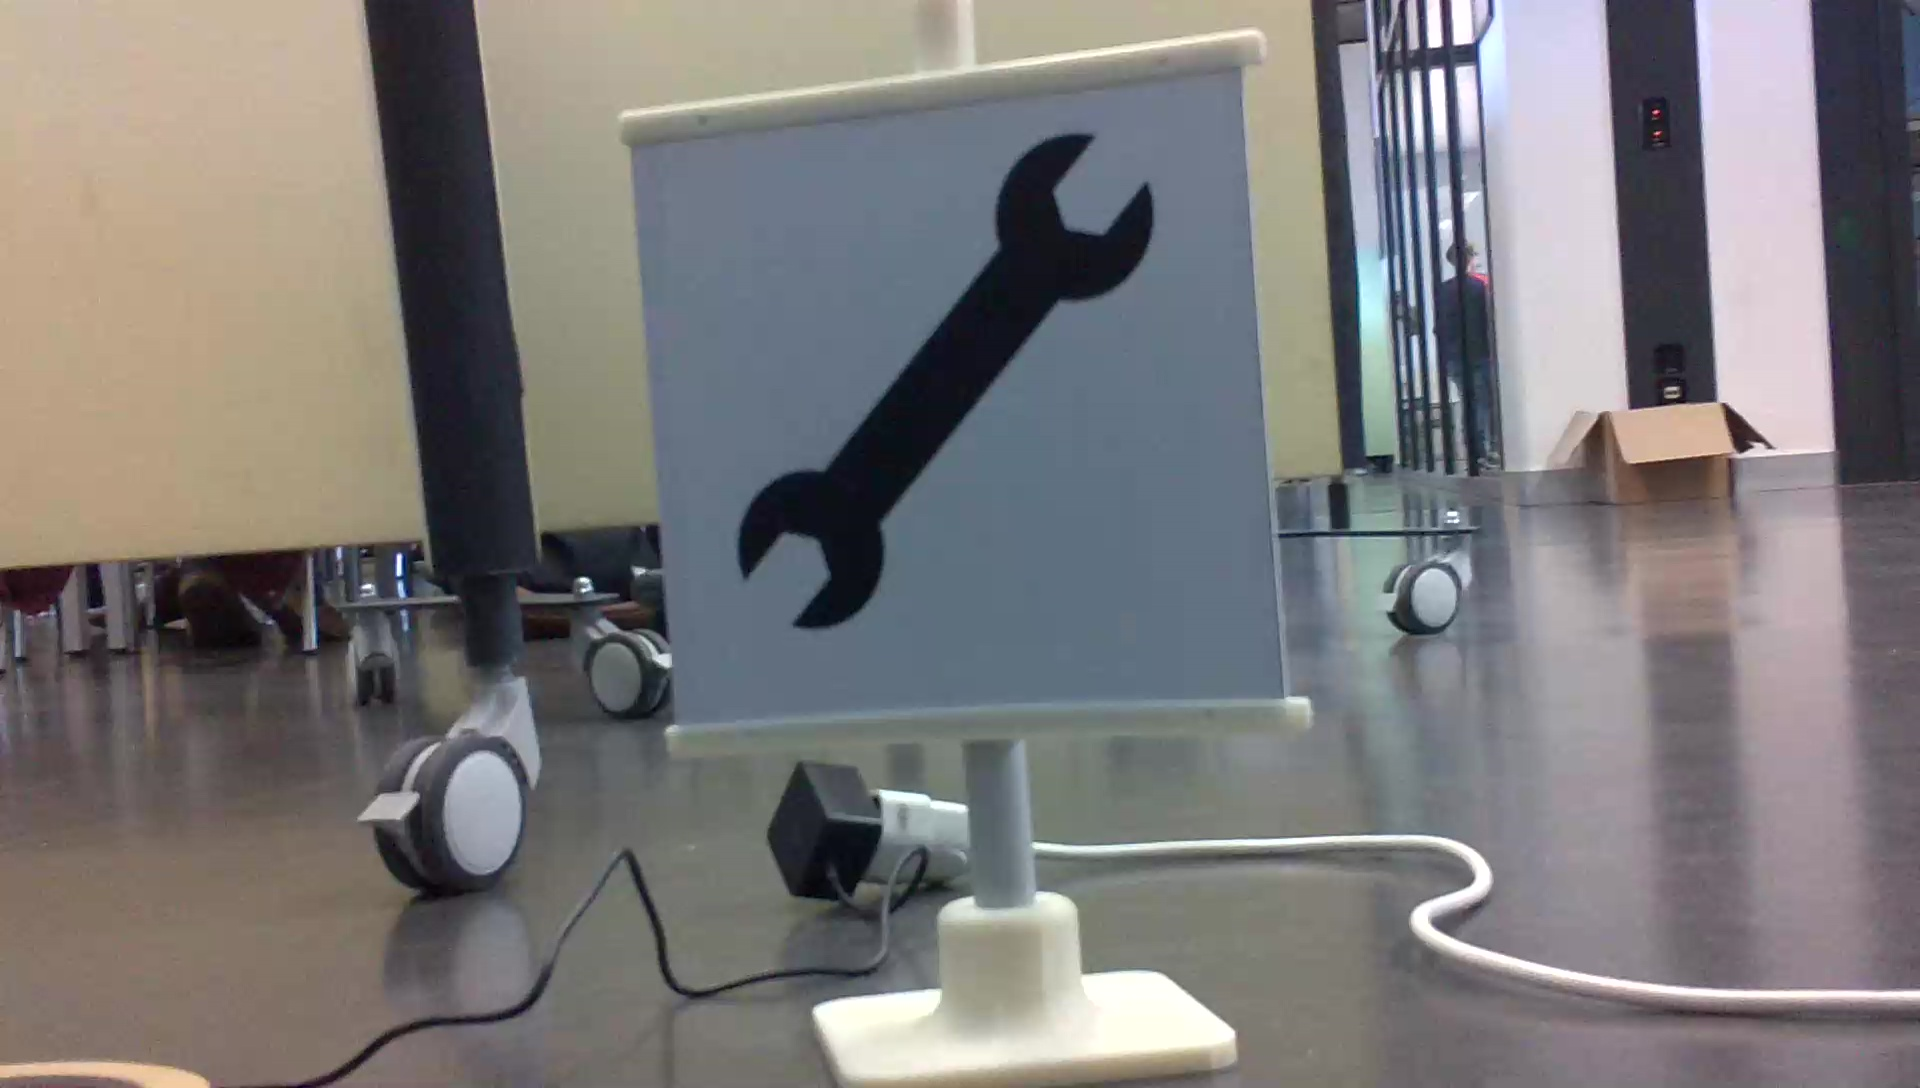wrench: (728, 125, 1164, 640)
